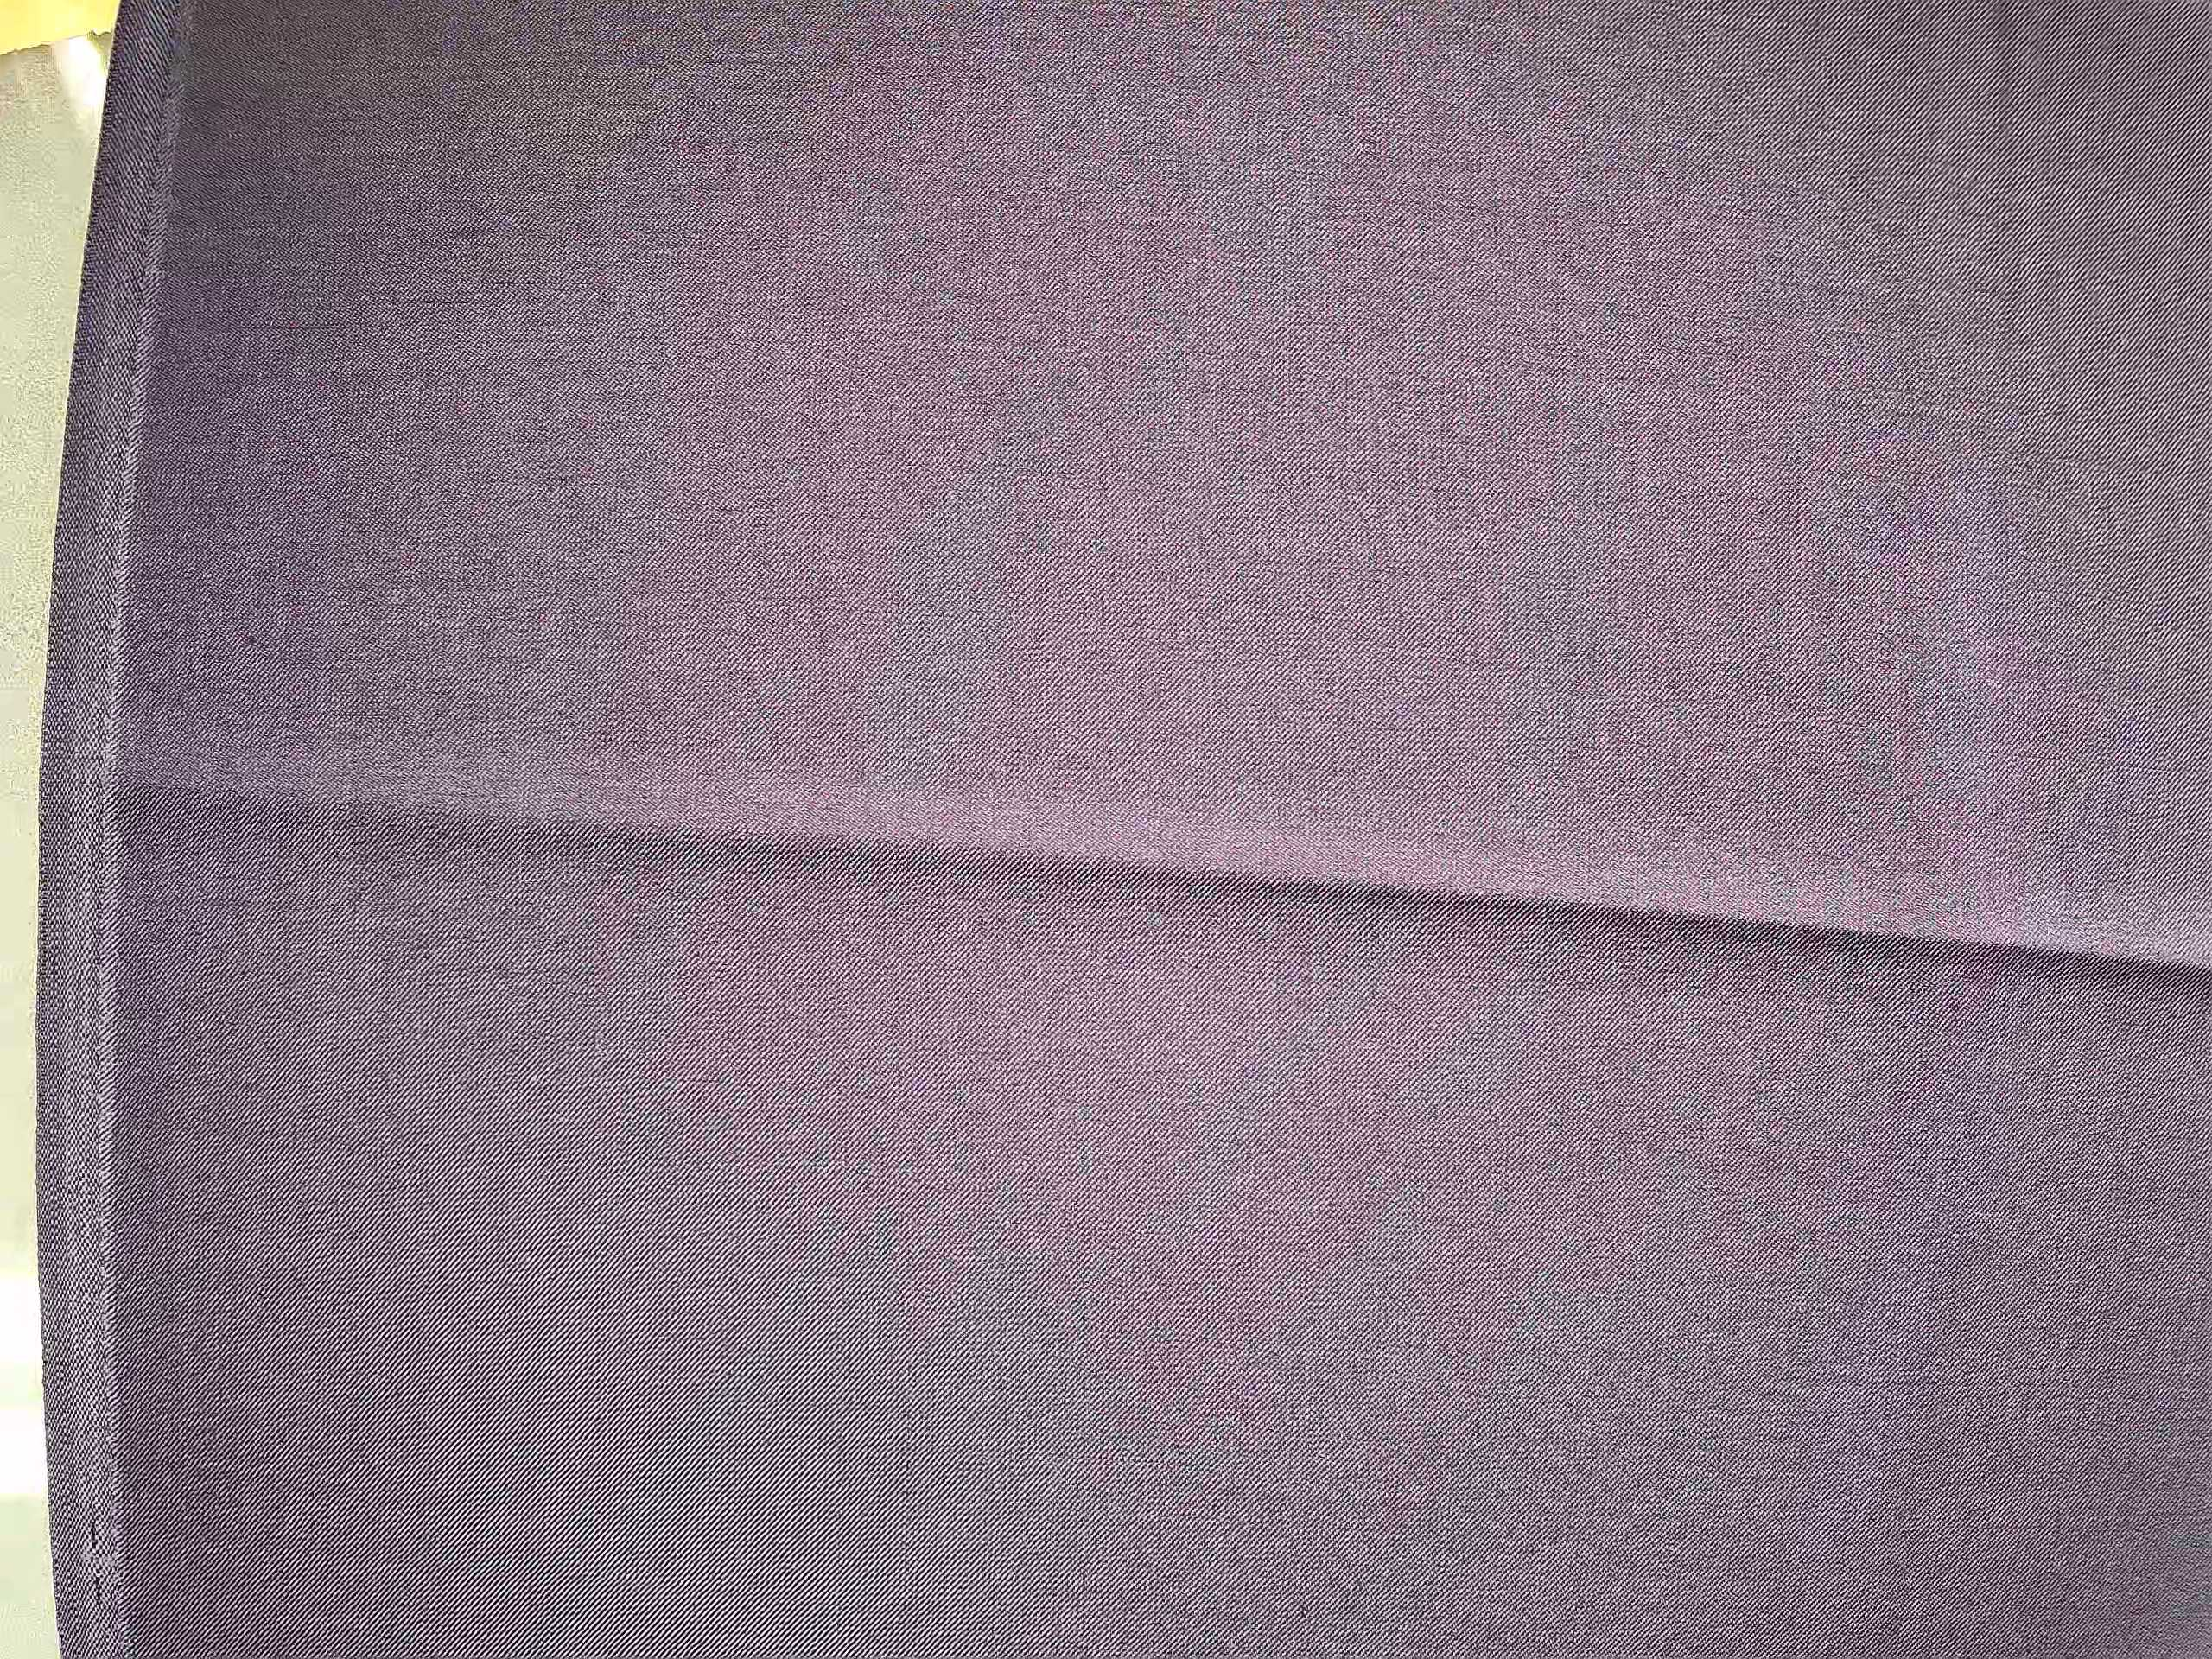stains: (316, 383, 714, 1099)
